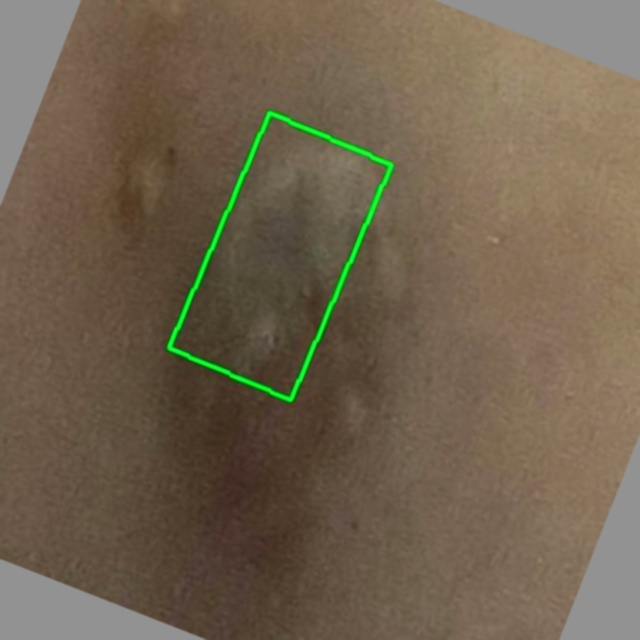Eczema: (169, 113, 391, 400)
